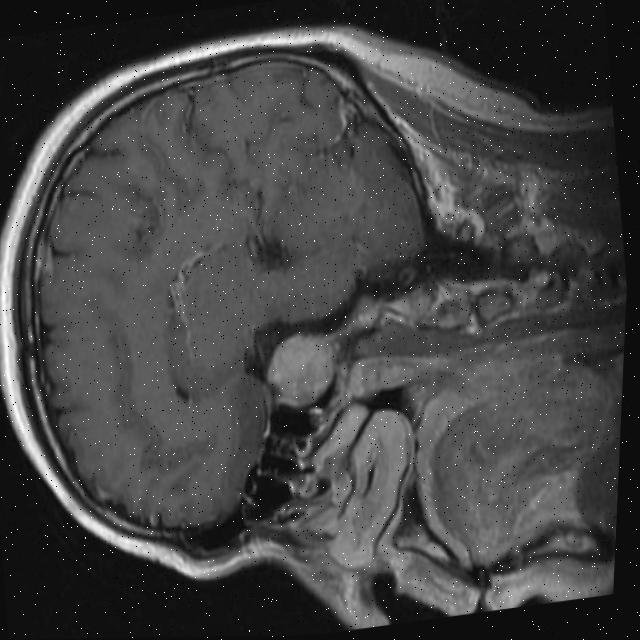Pituitary: (260, 327, 343, 410)
